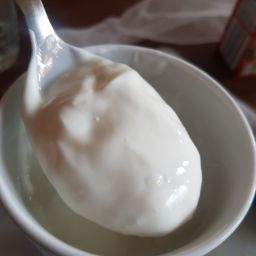Yogurt: (10, 78, 228, 242), (13, 52, 206, 231)
